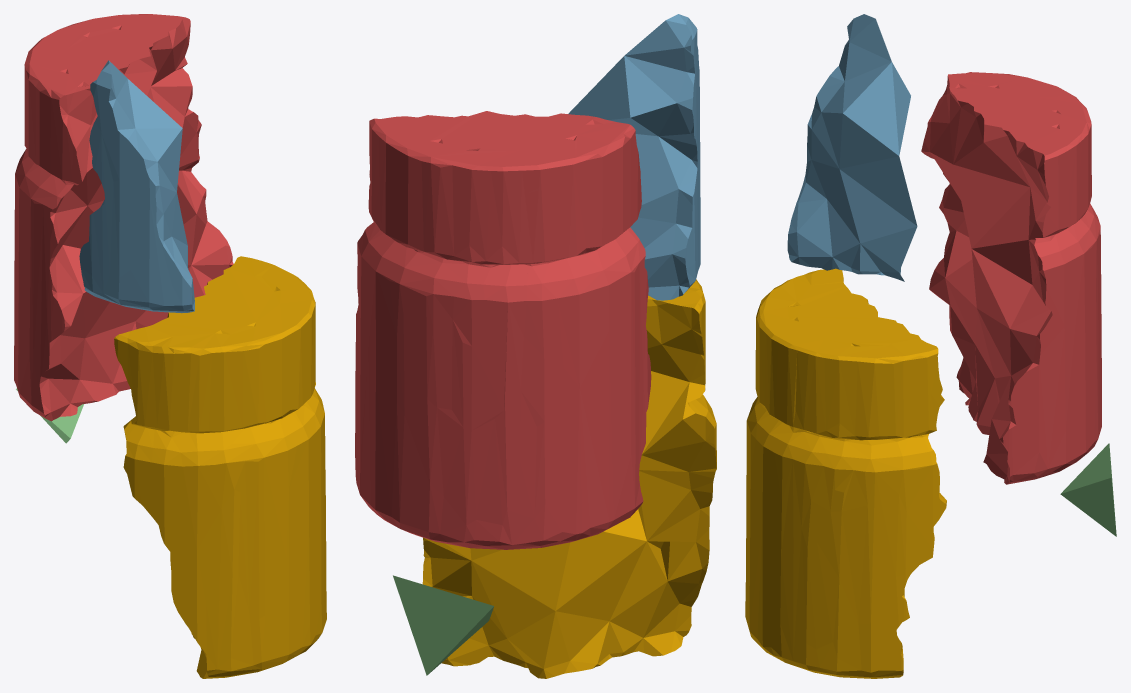
Rendered from mode_3_4pcs_transformed.glb.
The picture shows the model from 3 angles, left to right: view 1: azimuth 30°, elevation 25°; view 2: azimuth 150°, elevation 25°; view 3: azimuth 270°, elevation 25°; orthographic projection. The views are drawn at different scales.
Parts seen in each view (by area): view 1: piece_0.obj, piece_1.obj, piece_2.obj, piece_3.obj; view 2: piece_1.obj, piece_0.obj, piece_2.obj, piece_3.obj; view 3: piece_0.obj, piece_1.obj, piece_2.obj, piece_3.obj.
Boxes of the visible parts, x1=… form: piece_0.obj: x1=114, y1=256, x2=326, y2=678; piece_1.obj: x1=14, y1=14, x2=233, y2=421; piece_2.obj: x1=79, y1=60, x2=194, y2=313; piece_3.obj: x1=16, y1=388, x2=83, y2=443; piece_1.obj: x1=355, y1=111, x2=651, y2=549; piece_0.obj: x1=422, y1=279, x2=716, y2=678; piece_2.obj: x1=568, y1=14, x2=700, y2=300; piece_3.obj: x1=393, y1=575, x2=493, y2=675; piece_0.obj: x1=745, y1=268, x2=946, y2=678; piece_1.obj: x1=921, y1=72, x2=1101, y2=484; piece_2.obj: x1=787, y1=14, x2=917, y2=281; piece_3.obj: x1=1060, y1=443, x2=1116, y2=536.
Bounding box in the file's own units: 0.7073 × 1.79 × 1.05.
